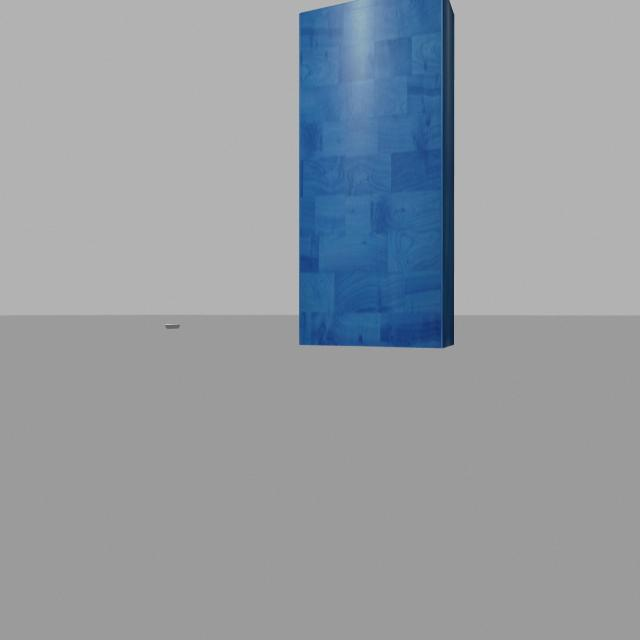bowl: (164, 318, 181, 334)
shelf: (292, 2, 462, 359)
